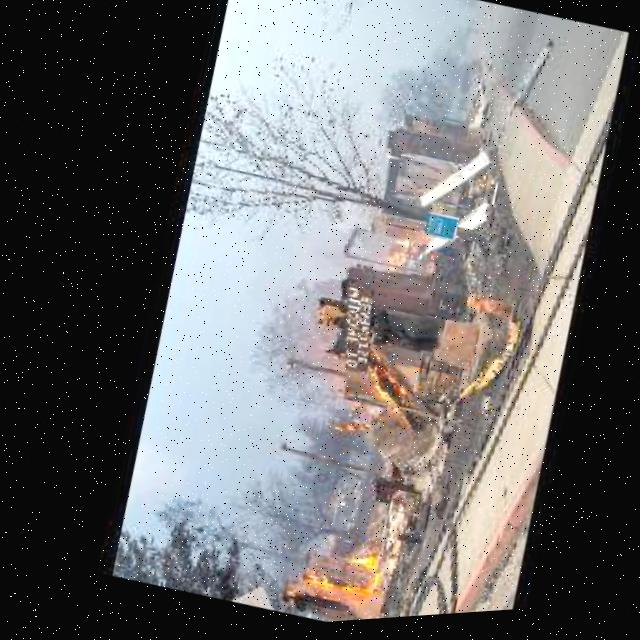Fire: (266, 532, 392, 628), (328, 344, 430, 449)
